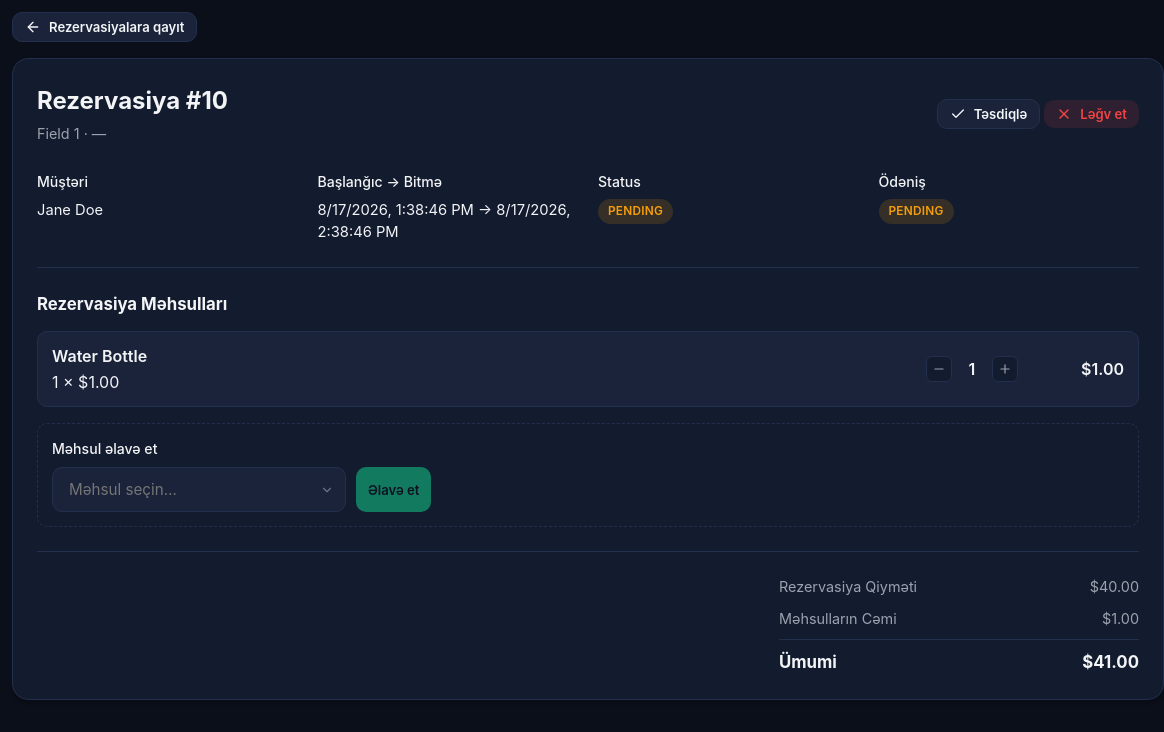
Test: BookingDetails page › removing the last unit removes the item from the UI
expect the text "Water Bottle" is shown: met, box [52,346,147,366]
Click the button named "Water Bottle məhsulundan bir ədəd sil": (939, 369) [926,356,952,382]
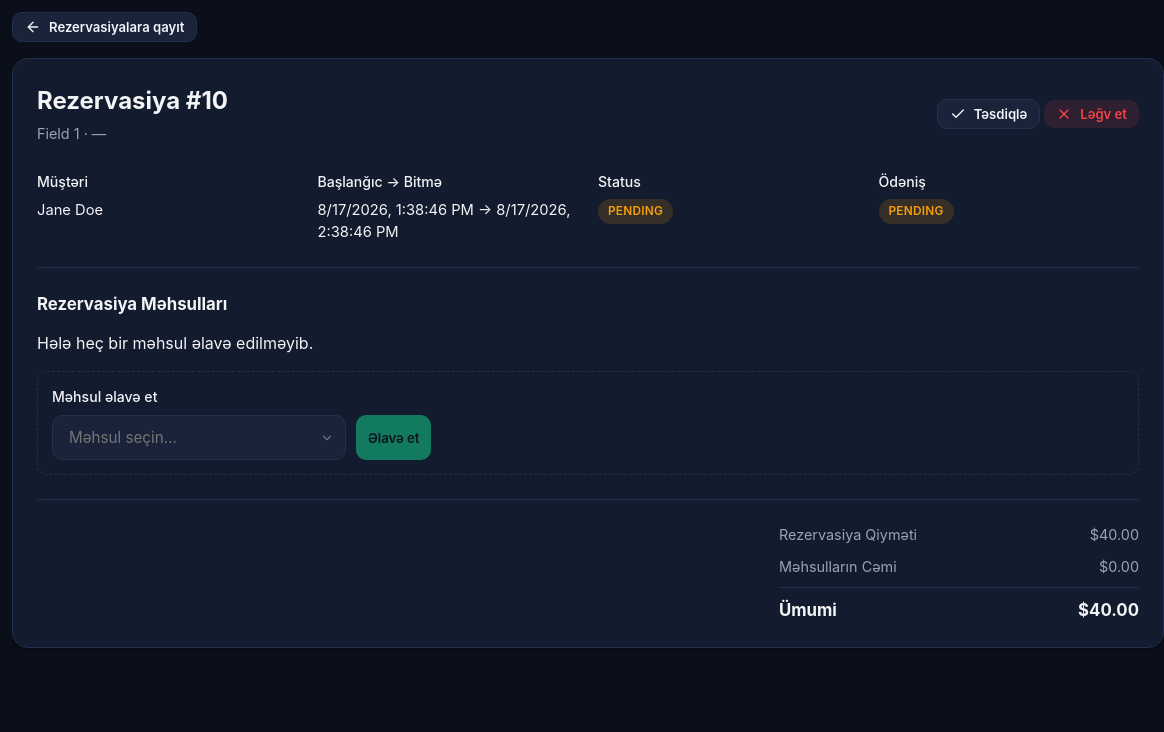
expect the text "Hələ heç bir məhsul əlavə edilməyib." is shown: met, box [37,333,313,353]
expect the text "Water Bottle" is gone: met
